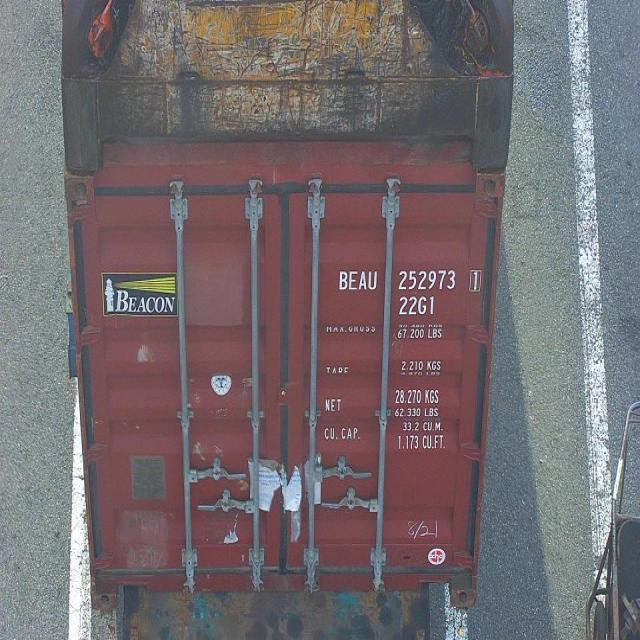ISO: (398, 296, 438, 318)
container_number: (336, 265, 481, 299)
